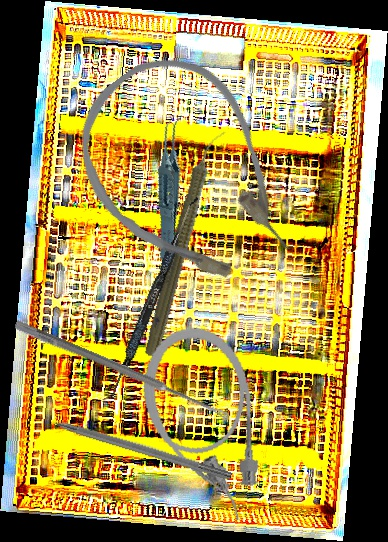Cannula: (47, 29, 327, 323), (132, 318, 274, 534)
Handpiece: (139, 123, 229, 361)
Hook Surgical: (28, 408, 234, 482)
Spatula Surgical: (107, 193, 199, 402)
Surgical Spoon: (13, 319, 232, 422)
Tissue Forceps: (129, 111, 215, 268)
